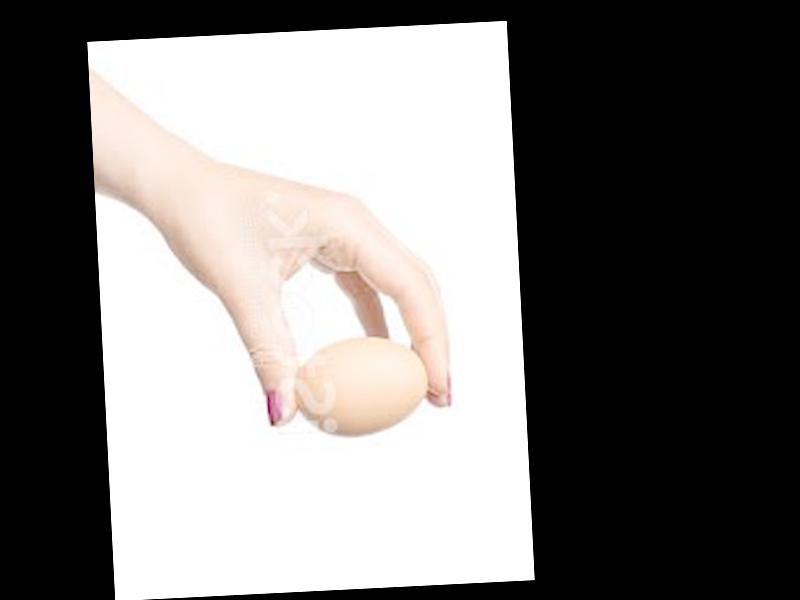Eggs: (291, 336, 429, 435)
